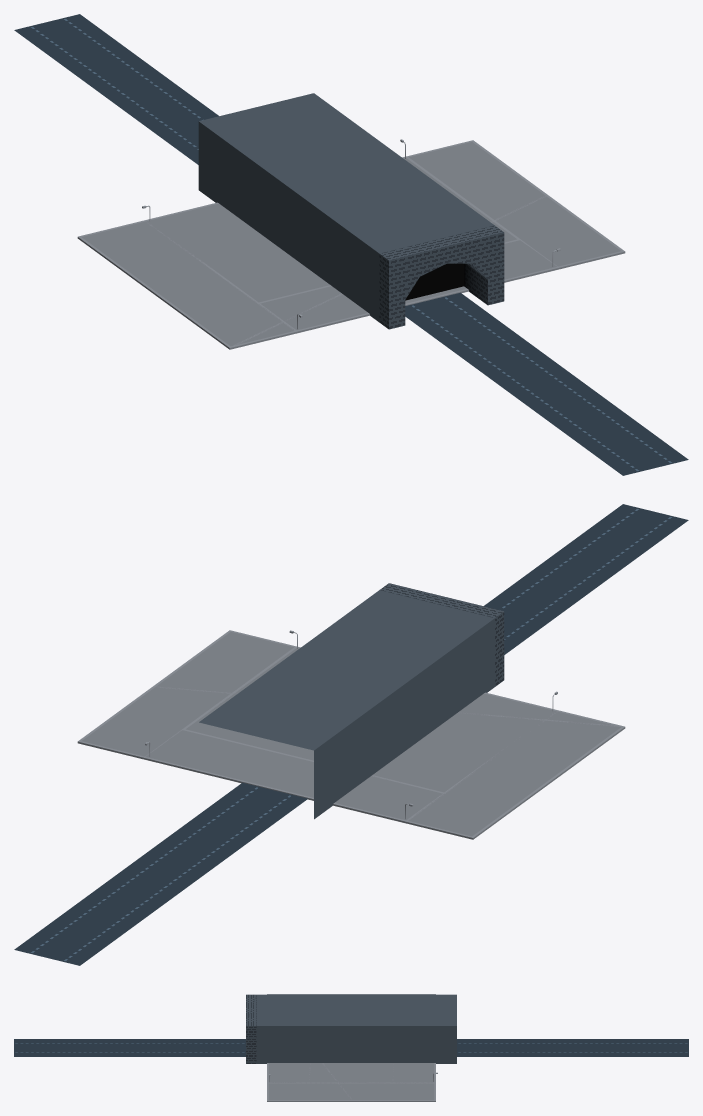
File: streets.glb
3 renders of one model, top to bottom at view 1: azimuth 30°, elevation 25°; view 2: azimuth 150°, elevation 25°; view 3: azimuth 270°, elevation 25°, orthographic. The views are drawn at different scales.
Parts seen in each view (by area): view 1: Tunnel, Streetblock_large, Road_large, Streetblock_cut, Streeblock, Streeblock_half; view 2: Tunnel, Streetblock_large, Road_large, Streetblock_cut, Streeblock, Streeblock_half; view 3: Tunnel, Road_large, Streetblock_large, Streeblock, Streetblock_cut, Streeblock_half.
Boxes of the visible parts, left/top/right/bottom form: Tunnel: left=198, top=93, right=504, bottom=329; Streetblock_large: left=77, top=140, right=625, bottom=349; Road_large: left=14, top=14, right=688, bottom=475; Streetblock_cut: left=82, top=141, right=547, bottom=346; Streeblock: left=142, top=139, right=560, bottom=333; Streeblock_half: left=202, top=185, right=520, bottom=303; Tunnel: left=199, top=583, right=504, bottom=819; Streetblock_large: left=77, top=630, right=625, bottom=839; Road_large: left=14, top=504, right=688, bottom=965; Streetblock_cut: left=80, top=686, right=621, bottom=835; Streeblock: left=144, top=630, right=558, bottom=823; Streeblock_half: left=182, top=675, right=500, bottom=793; Tunnel: left=246, top=994, right=456, bottom=1063; Road_large: left=14, top=1039, right=688, bottom=1056; Streetblock_large: left=267, top=994, right=435, bottom=1101; Streeblock: left=267, top=1063, right=437, bottom=1083; Streetblock_cut: left=322, top=1063, right=434, bottom=1101; Streeblock_half: left=309, top=1063, right=391, bottom=1082.
Size of the model in its own units: 48 by 8 by 128.
Materials: 4 (3 with a texture image).
